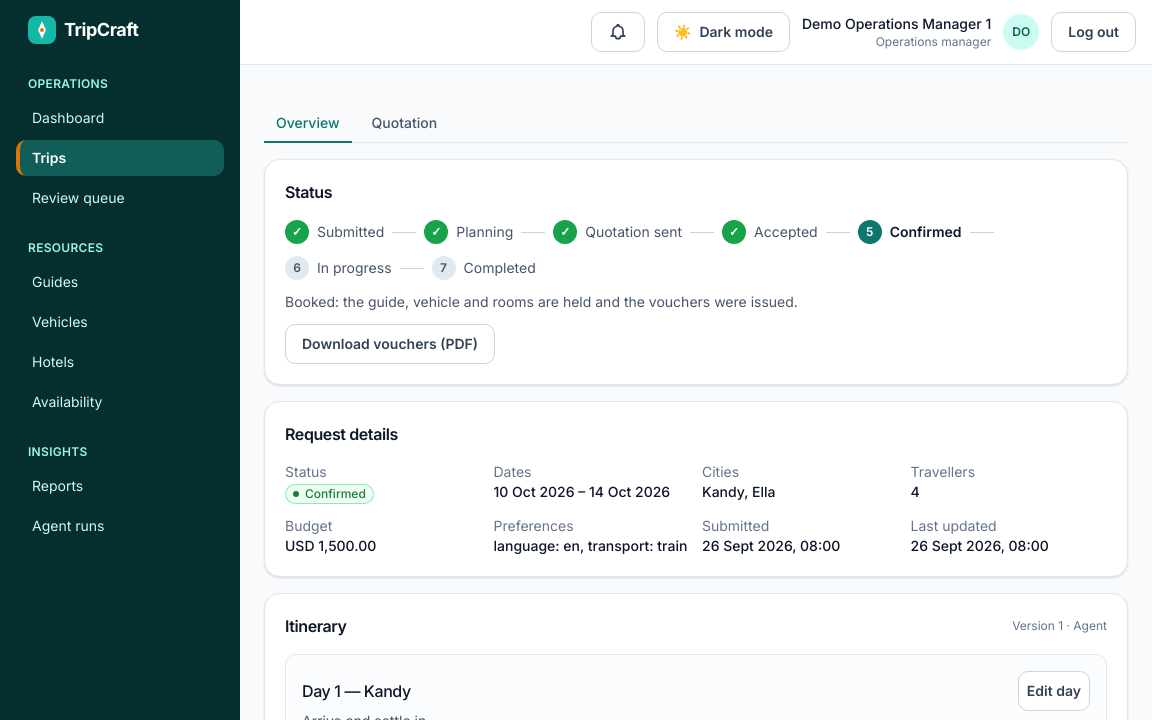
Test: Itinerary editor › saves the day with PUT, shows a toast and the refreshed itinerary
Step 1. Click the button with aria-label "Edit day 1" → (1054, 691), box [1018,671,1090,711]
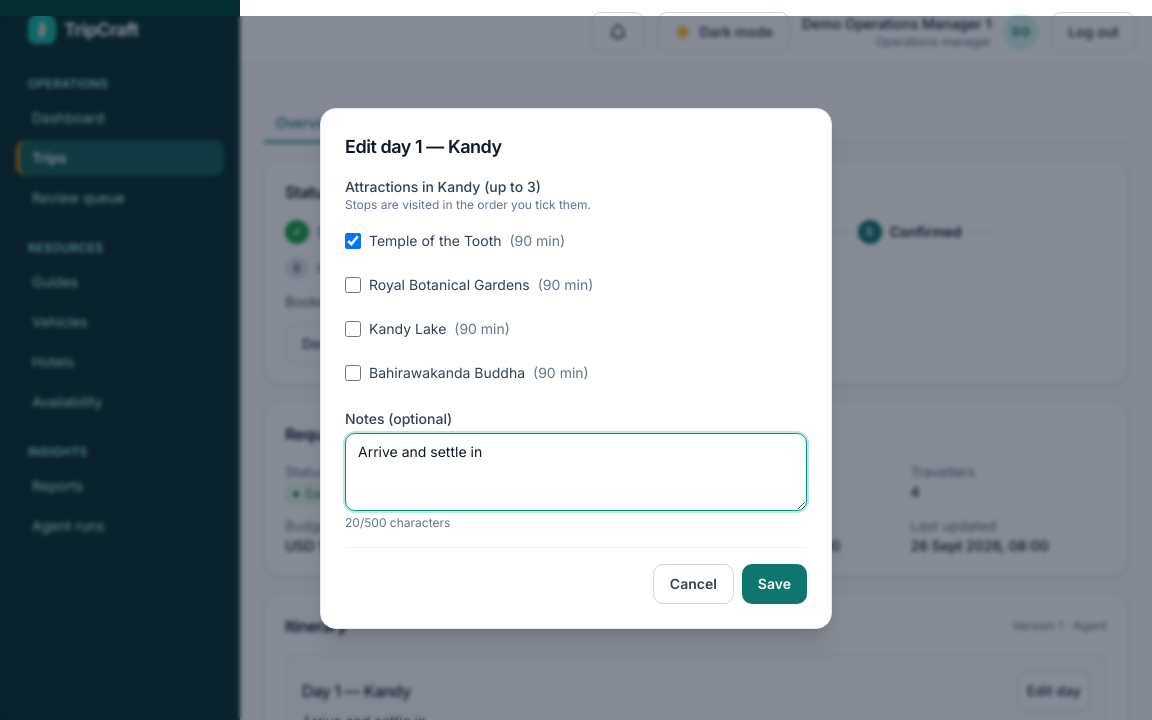
Step 2. Click the checkbox labelled "Temple of the Tooth (90 min)" → (353, 240), box [345,232,361,248]
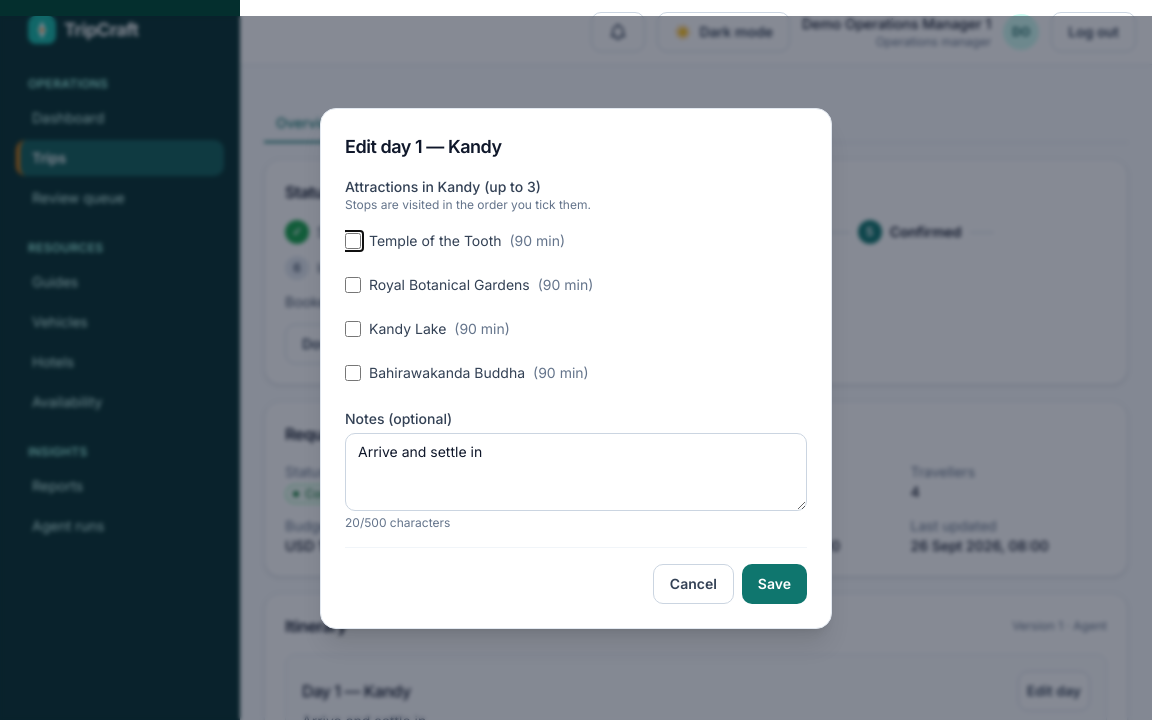
Step 3. Click the checkbox labelled "Kandy Lake (90 min)" → (353, 328), box [345,320,361,336]
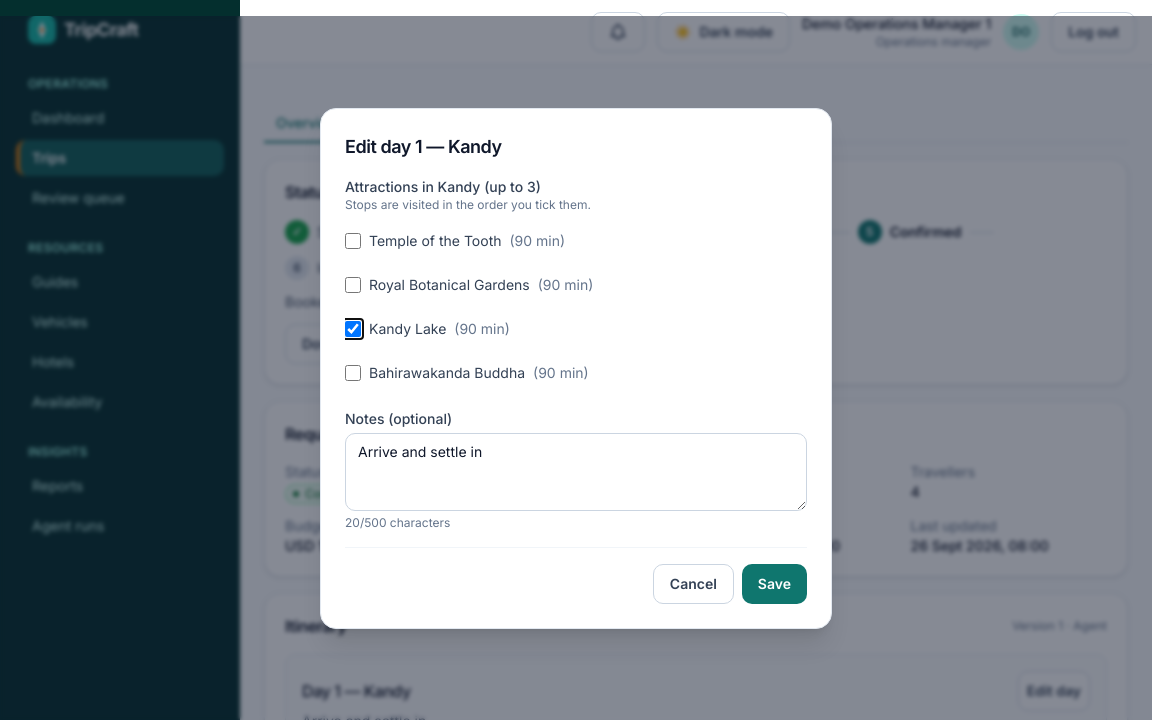
Step 4. Replace the text in the text box labelled "Notes (optional)" with "Lake walk at sunset" → (576, 472), box [345,432,807,510]
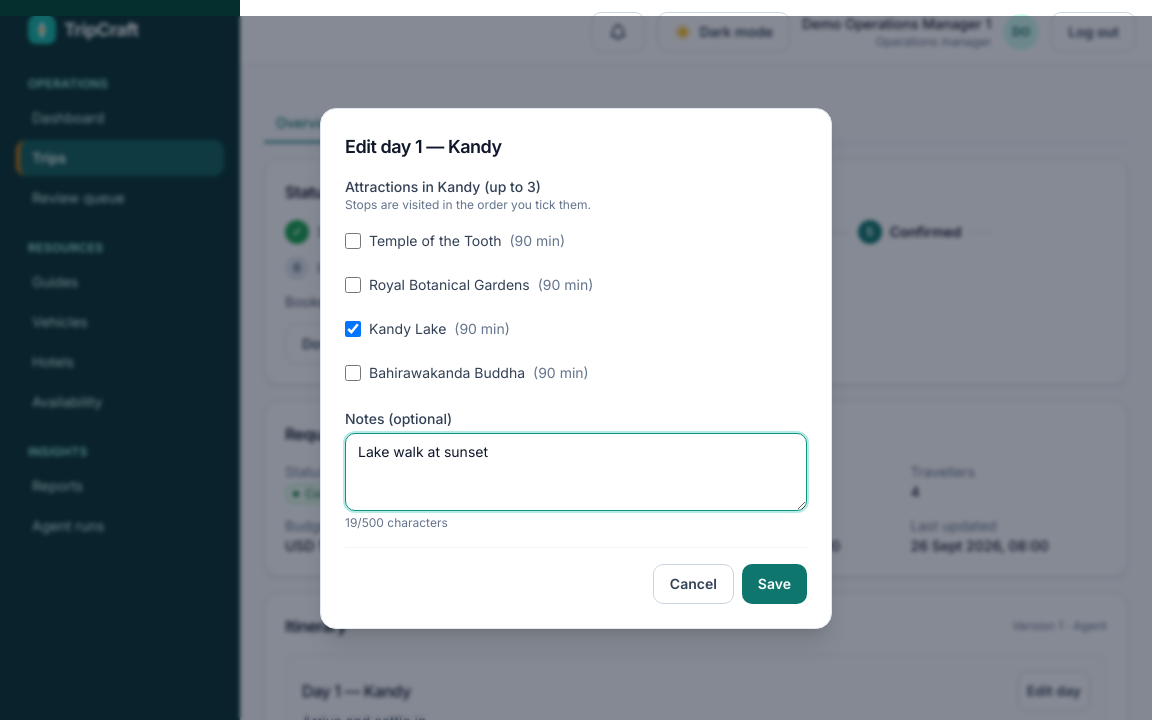
Step 5. Click the button "Save" → (774, 584), box [742,564,807,604]
(page scrolled)
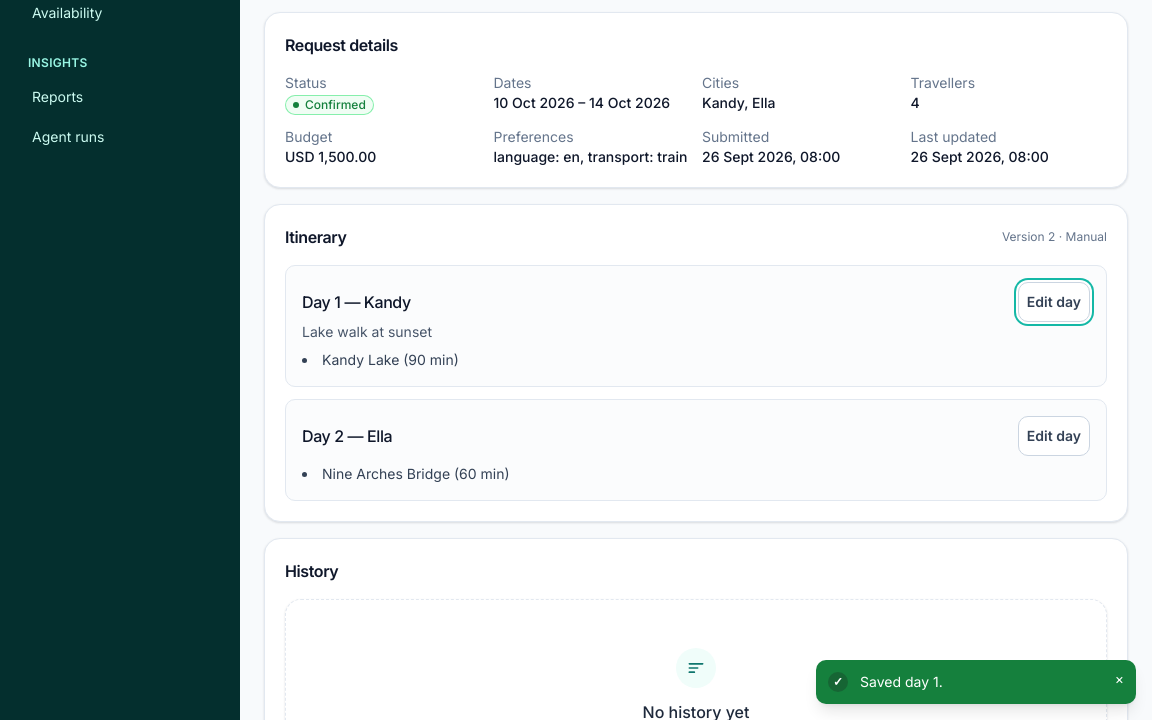
Check: the text "Saved day 1." is shown, box [860,673,943,690]
Check: the dialog is gone
Check: the text "Version 2 · Manual" is shown, box [1002,229,1107,245]
